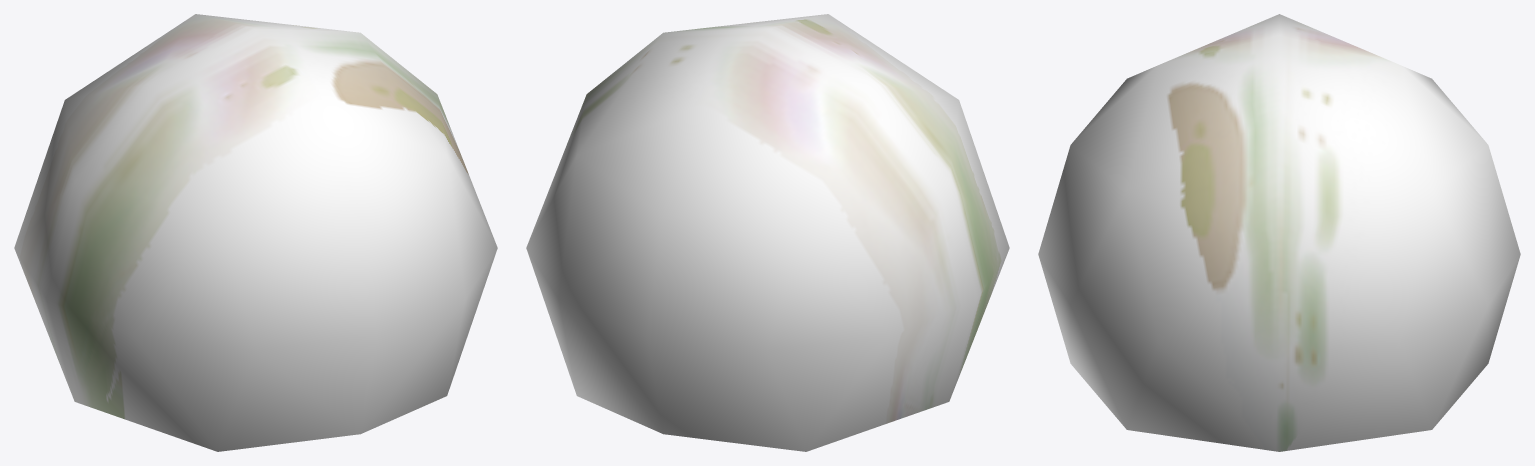
File: cycle.fbx
The picture shows the model from 3 angles, left to right: view 1: azimuth 30°, elevation 25°; view 2: azimuth 150°, elevation 25°; view 3: azimuth 270°, elevation 25°; orthographic projection.
Parts seen in each view (by area): view 1: GeoSphere001; view 2: GeoSphere001; view 3: GeoSphere001.
Part boxes in pixels (x1,y1,x2,y2): GeoSphere001: (14,14,497,451); GeoSphere001: (526,14,1009,451); GeoSphere001: (1038,14,1520,451).
Size of the model in its own units: 1.21 by 0.9344 by 1.21.
